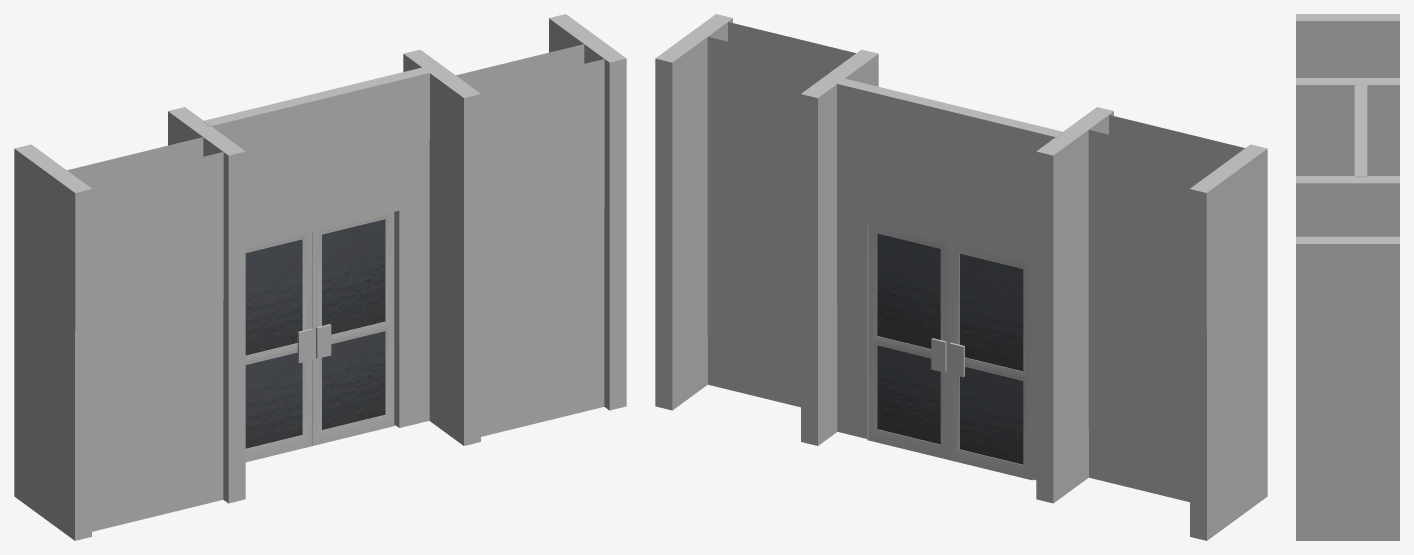
File: shop_Ent01c.fbx
The picture shows the model from 3 angles, left to right: view 1: azimuth 30°, elevation 25°; view 2: azimuth 150°, elevation 25°; view 3: azimuth 270°, elevation 25°; orthographic projection. The views are drawn at different scales.
Parts seen in each view (by area): view 1: shop_Ent01c; view 2: shop_Ent01c; view 3: shop_Ent01c.
Boxes of the visible parts, x1,y1,x2,y2 form: shop_Ent01c: [14, 14, 626, 540]; shop_Ent01c: [655, 14, 1267, 540]; shop_Ent01c: [1296, 14, 1399, 540].
Bounding box in the file's own units: 5.32 × 3.22 × 1.02.
